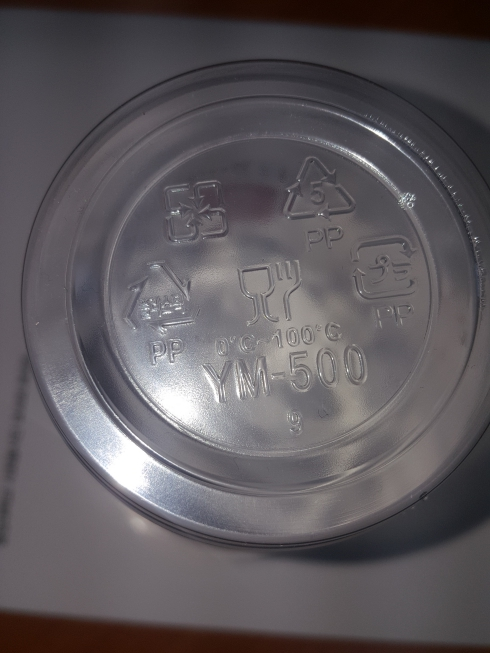recycle: (284, 145, 354, 251)
